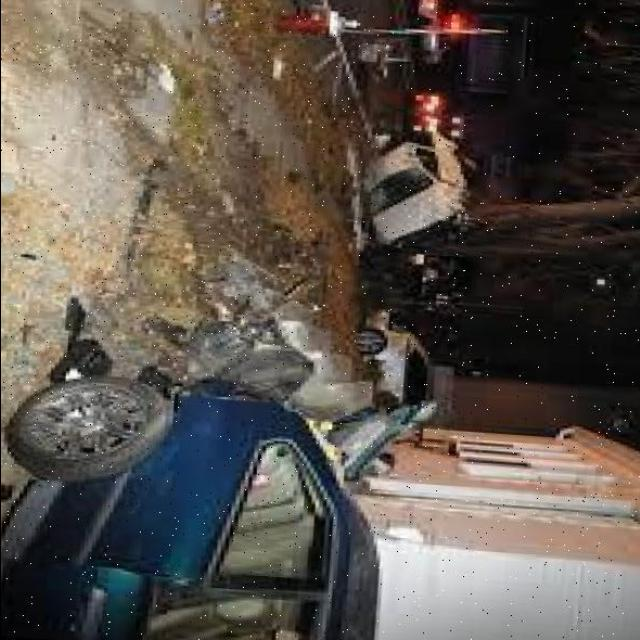accident: (354, 110, 490, 262), (345, 306, 453, 461)
